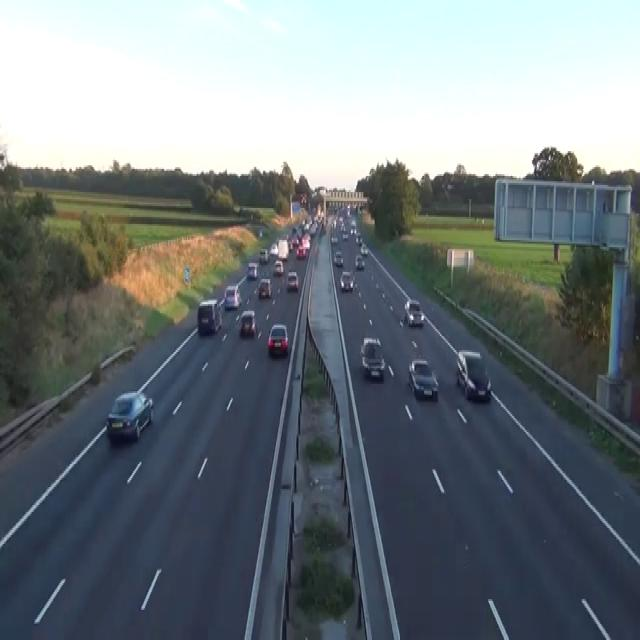Car: (106, 389, 153, 441), (455, 348, 491, 402), (408, 357, 438, 400), (360, 336, 385, 379), (267, 324, 288, 356), (404, 299, 424, 325), (238, 309, 256, 336), (224, 284, 241, 310), (339, 270, 354, 292), (258, 277, 272, 299), (286, 270, 298, 290), (246, 261, 258, 279), (333, 249, 343, 267), (273, 260, 283, 276), (259, 247, 269, 263), (354, 254, 365, 268), (269, 242, 278, 256), (301, 235, 310, 249), (296, 245, 305, 258), (360, 242, 368, 254), (308, 224, 316, 235), (300, 192, 307, 204), (286, 238, 292, 251), (355, 233, 362, 243), (331, 233, 338, 243), (342, 231, 348, 240), (259, 230, 262, 237)
Truck: (197, 297, 222, 336)
